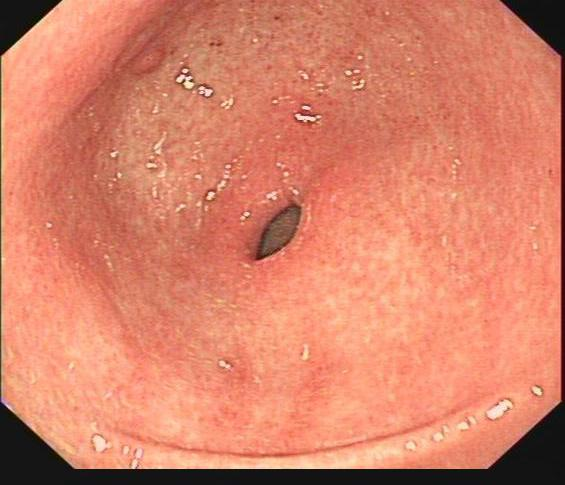Polyp: (106, 26, 177, 97)
